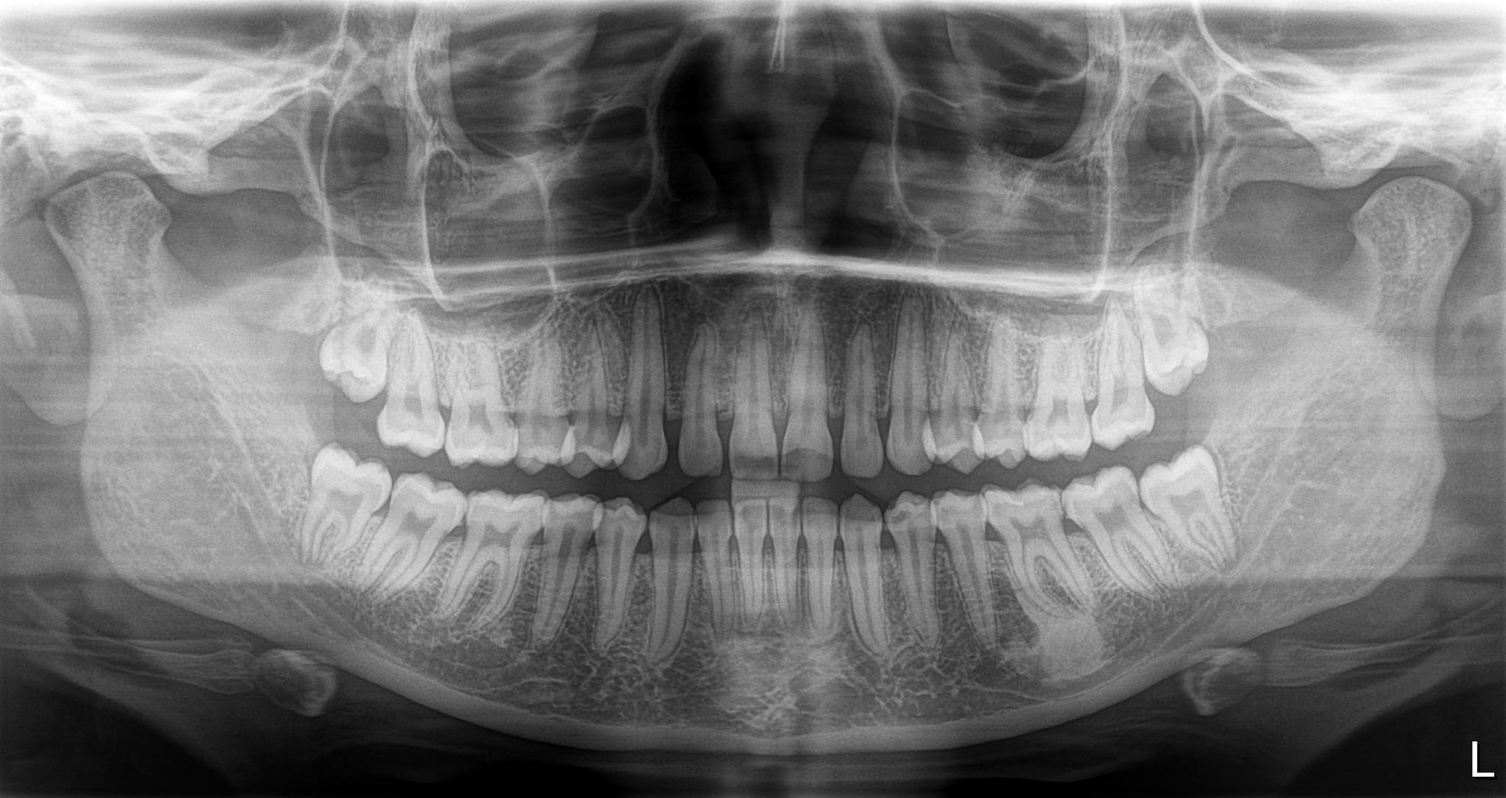Impacted Third Molar: (1145, 301, 1221, 401), (320, 305, 389, 403)
